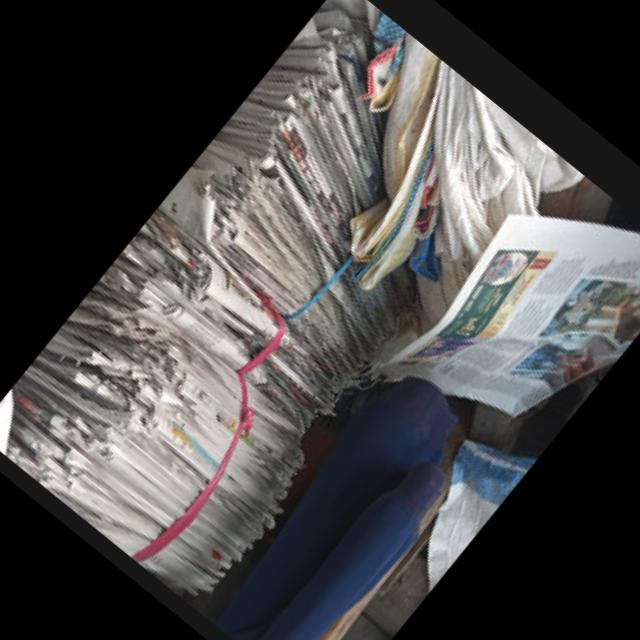Koran: (0, 0, 566, 618)
